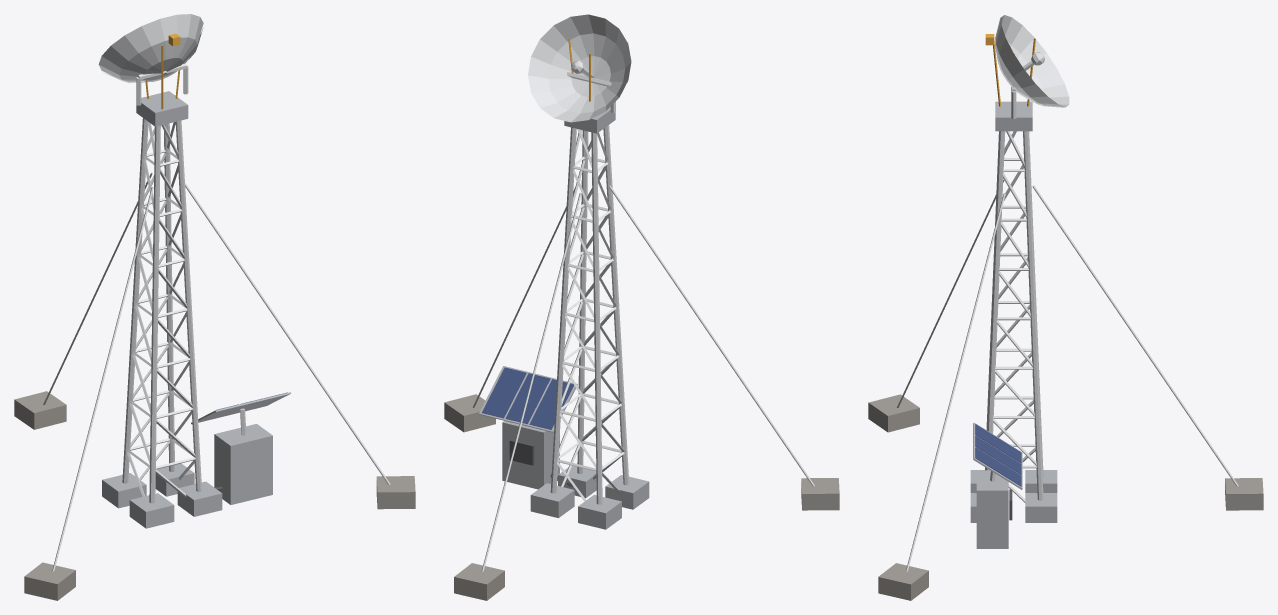
The model's file is comms-relay-mast-4cdfe54f.glb.
3 views of the same model, side by side, from view 1: azimuth 30°, elevation 25°; view 2: azimuth 150°, elevation 25°; view 3: azimuth 270°, elevation 25° (orthographic).
Visible parts, largest first — view 1: comms-relay-mast, dish; view 2: comms-relay-mast, dish; view 3: comms-relay-mast, dish.
Part boxes in pixels (x1,y1,x2,y2): comms-relay-mast: [14, 33, 415, 600]; dish: [98, 14, 203, 83]; comms-relay-mast: [444, 37, 839, 600]; dish: [528, 14, 631, 122]; comms-relay-mast: [868, 34, 1263, 600]; dish: [995, 15, 1069, 107].
Bounding box in the file's own units: 8.4 × 9.99 × 7.38.
